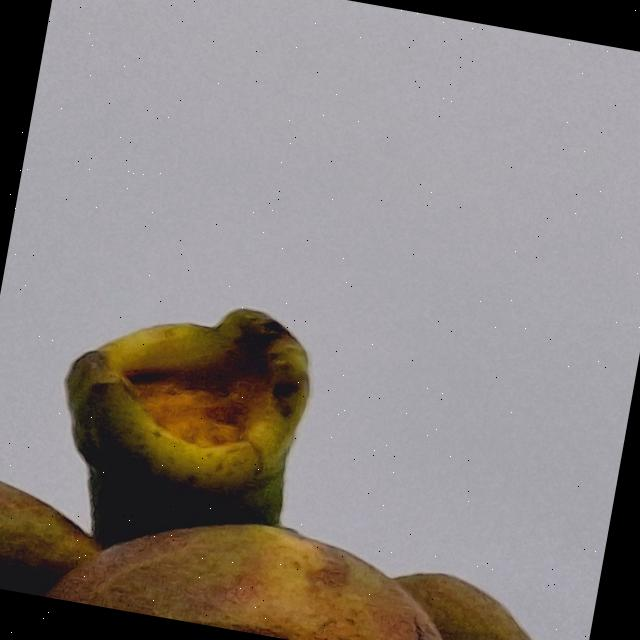mangosteen: (0, 240, 639, 640)
